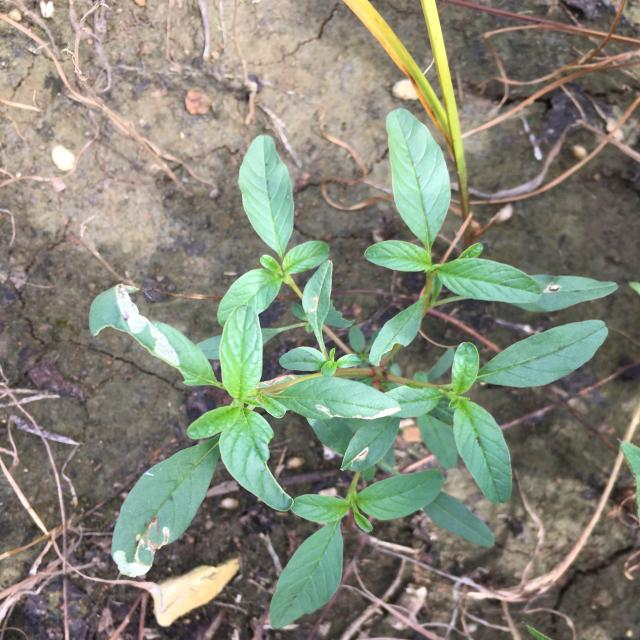Waterhemp: (89, 108, 619, 630)
